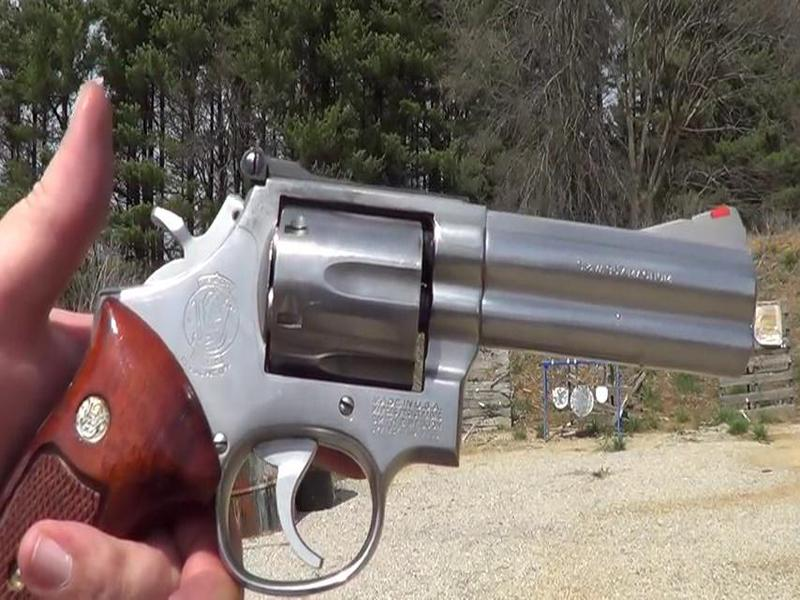Revolver: (50, 142, 796, 600)
